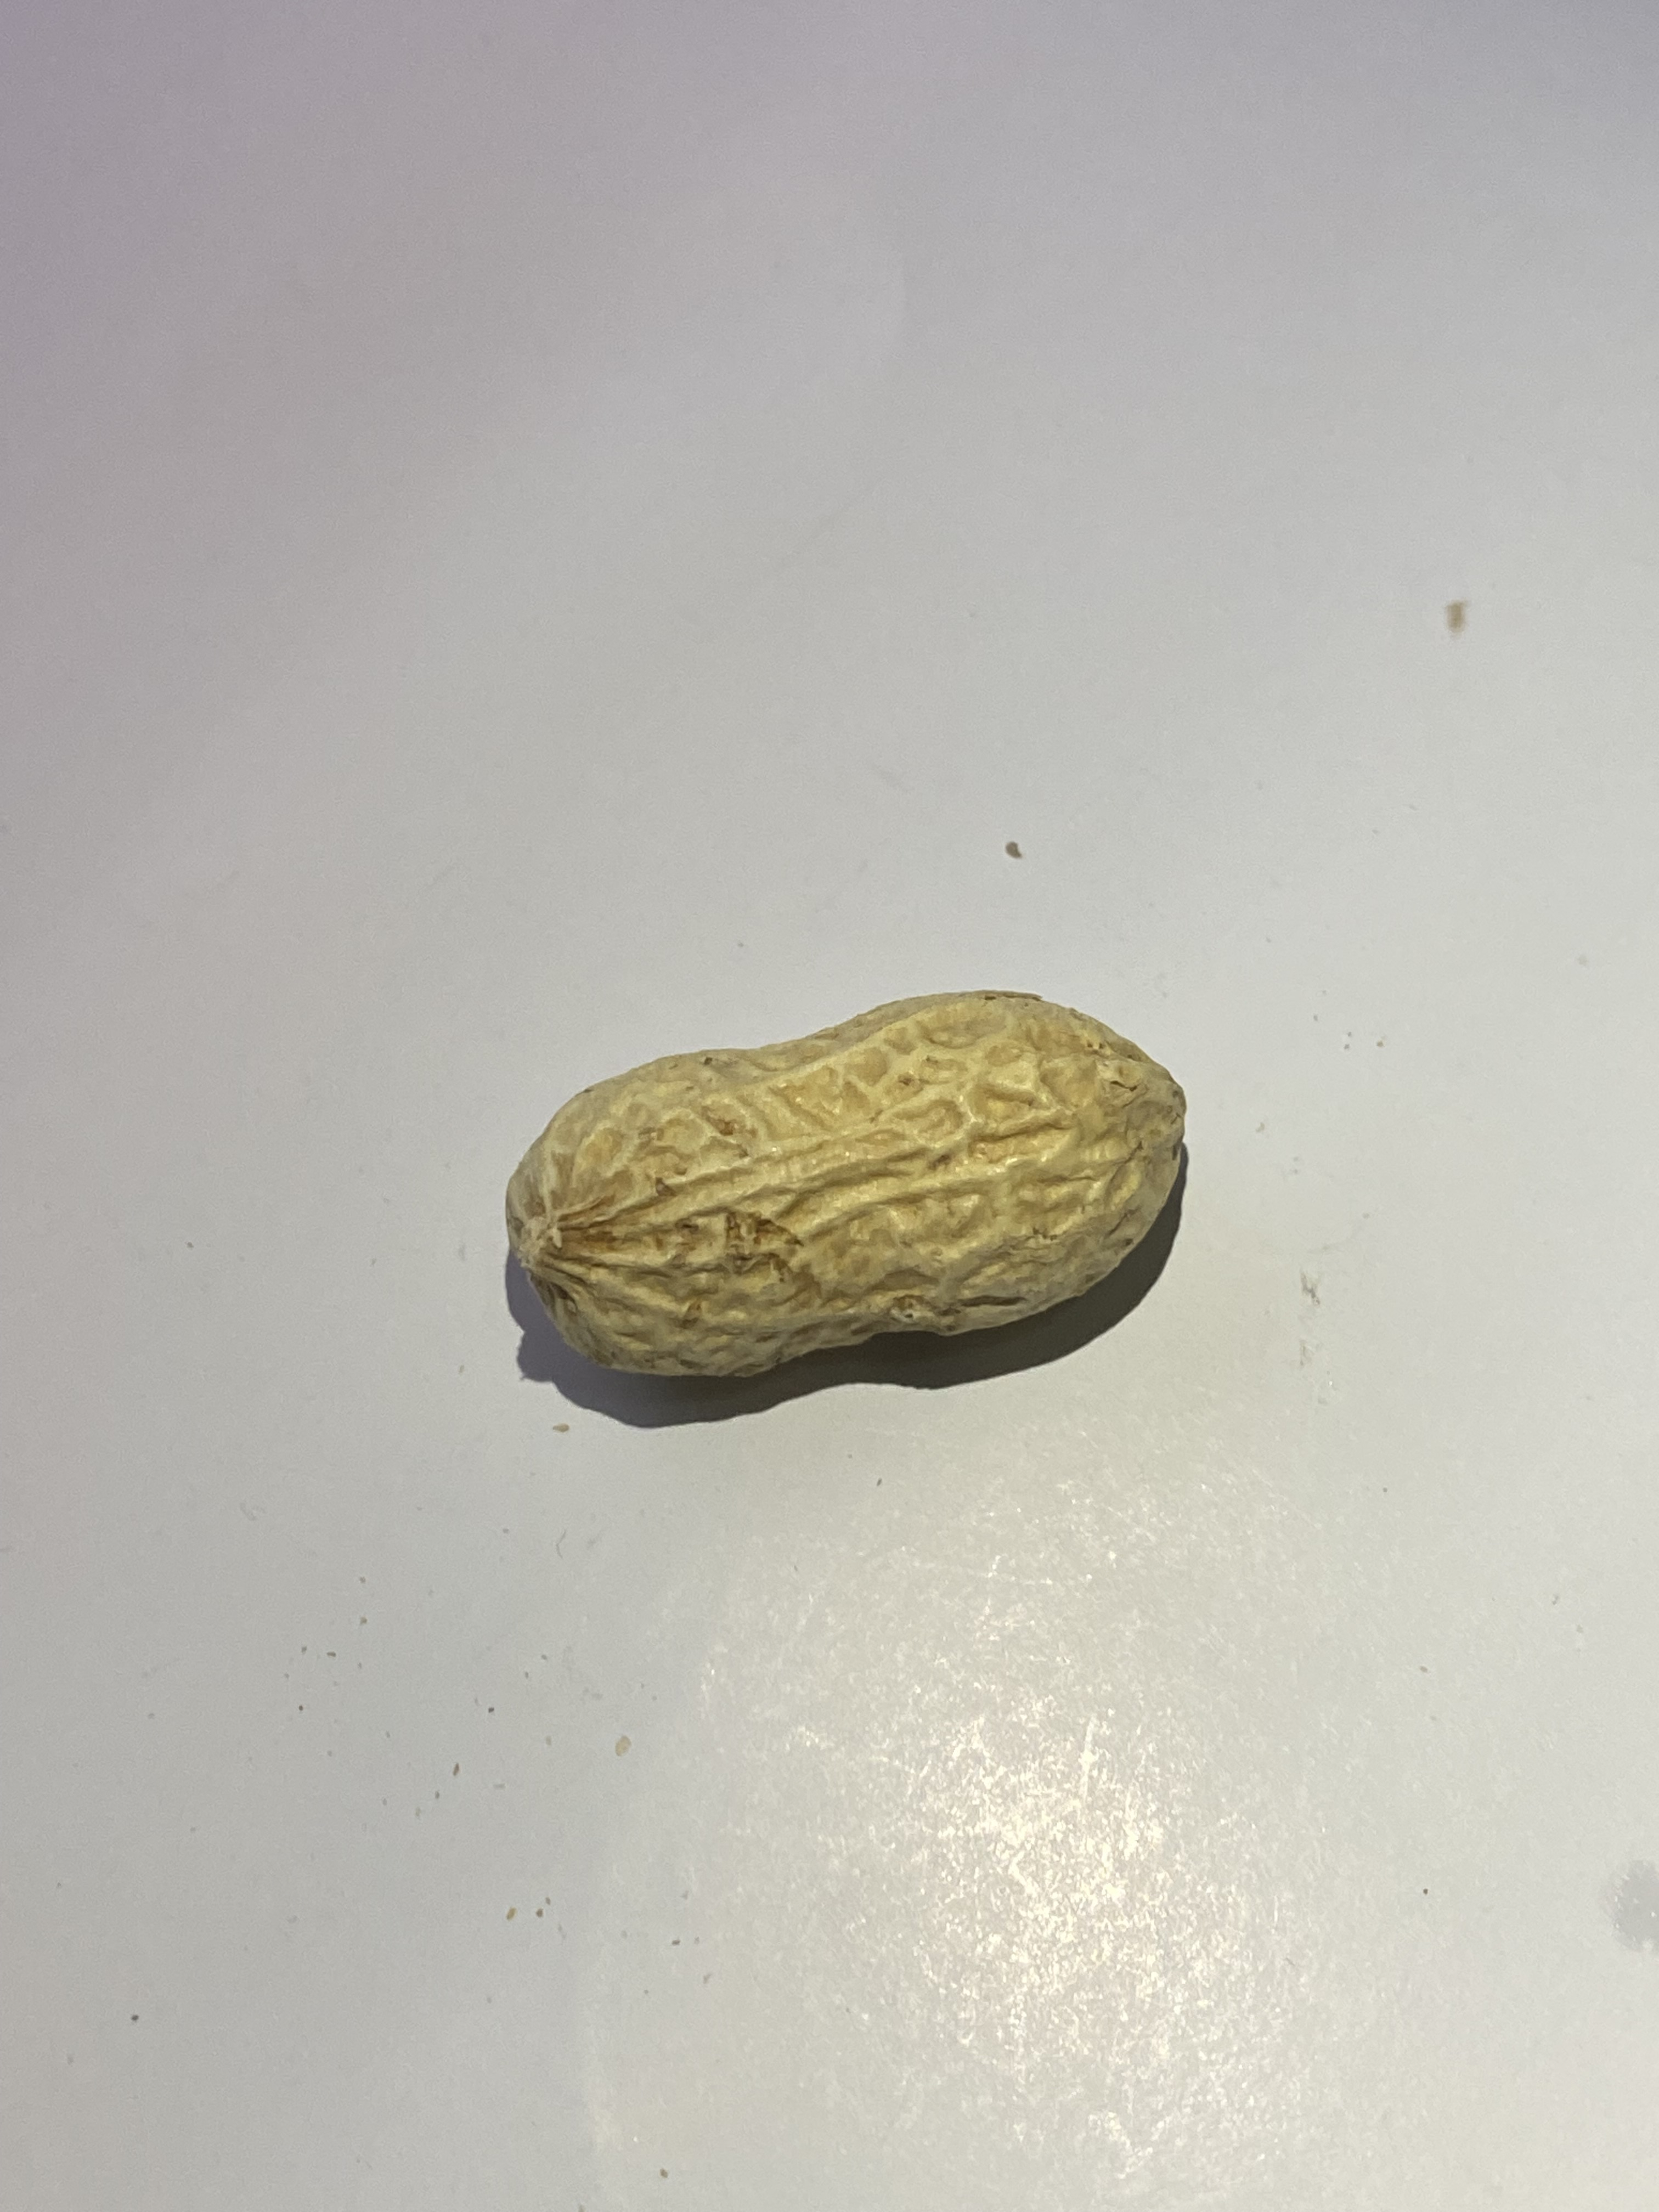kacang2: (477, 982, 1225, 1386)
